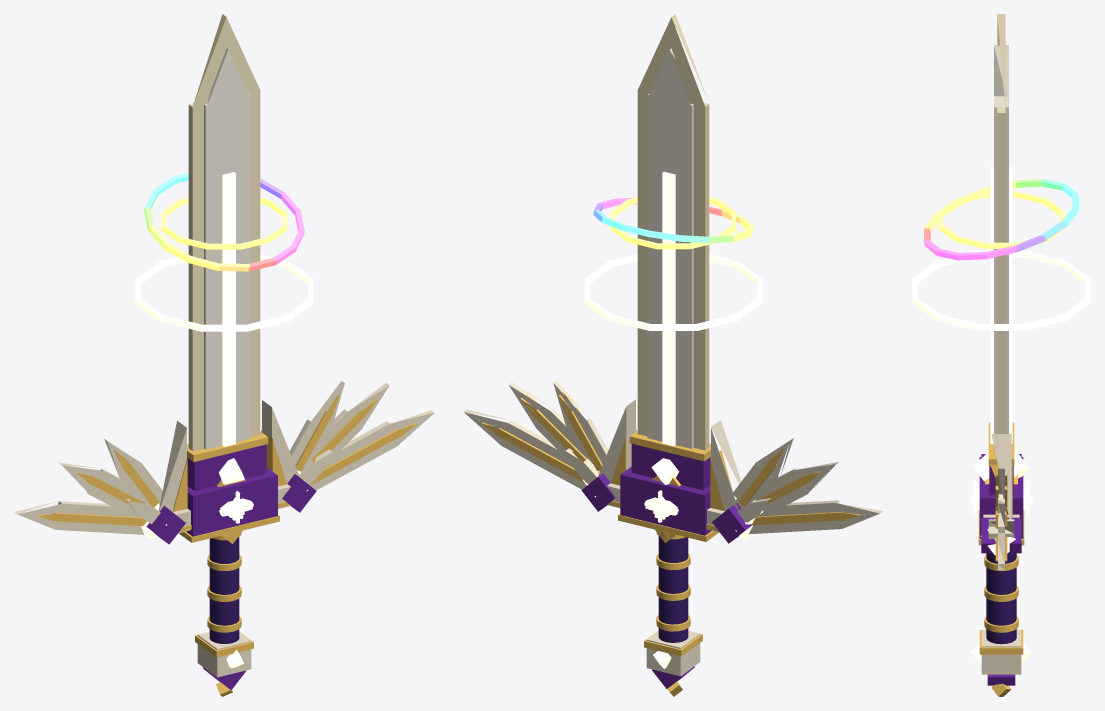
3 renders of one model, left to right at view 1: azimuth 30°, elevation 25°; view 2: azimuth 150°, elevation 25°; view 3: azimuth 270°, elevation 25°, orthographic.
Visible parts, largest first — view 1: sovereigns-oath; view 2: sovereigns-oath; view 3: sovereigns-oath.
Part boxes in pixels (left/top/right/bottom): sovereigns-oath: left=14, top=14, right=434, bottom=696; sovereigns-oath: left=464, top=14, right=882, bottom=696; sovereigns-oath: left=912, top=14, right=1090, bottom=696.
Bounding box in the file's own units: 0.8928 × 1.39 × 0.3306.
